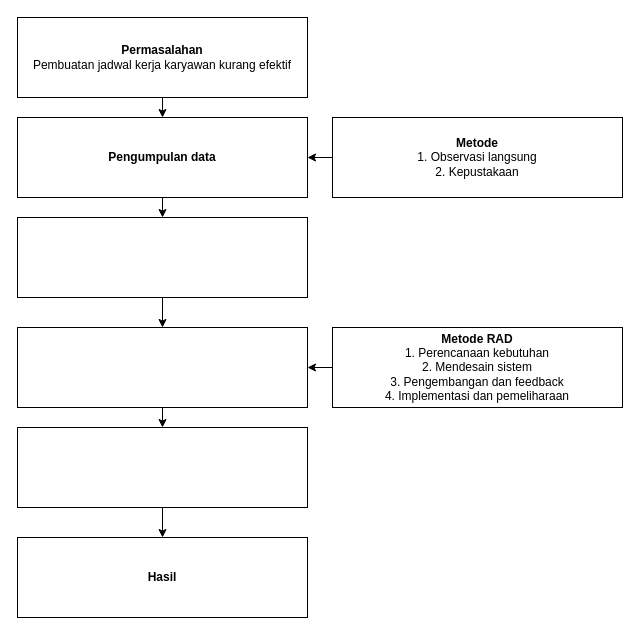
Image size: 640x635. Some labels were removed from this diagram. Each missing label, with the centre of its shape:
"Data penelitian" goes at pixel 162 257.
"Implementasi" goes at pixel 162 467.
"Pengembangan aplikasi" goes at pixel 162 367.
